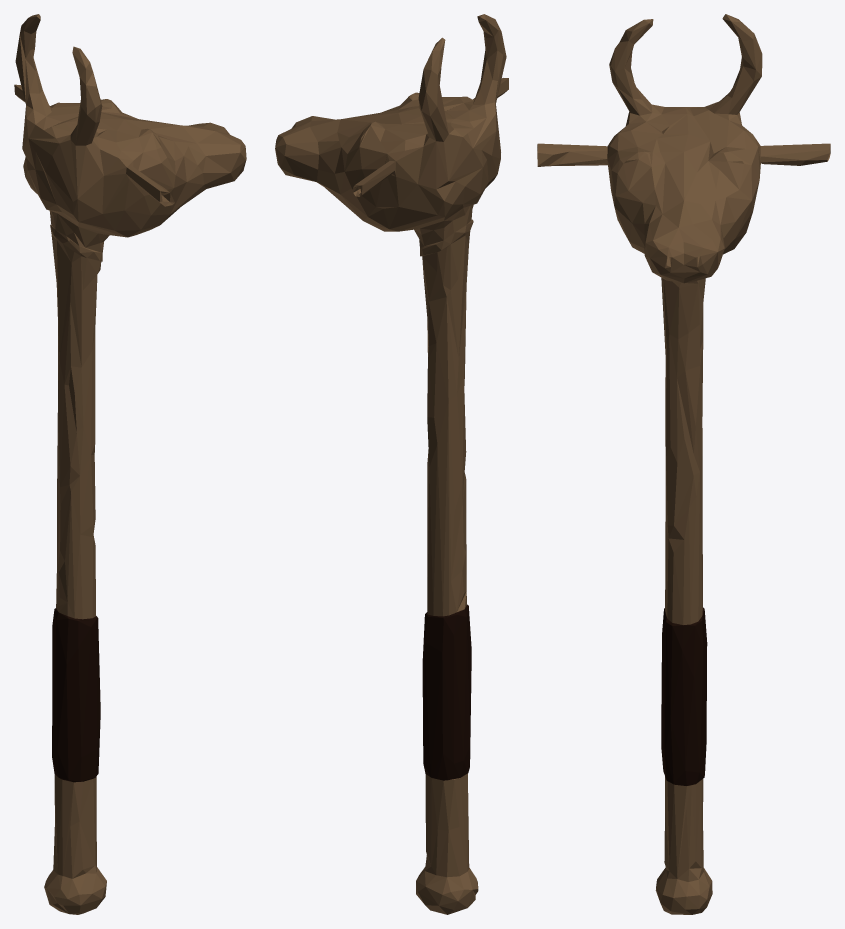
File: gavsar morning star.glb
3 views of the same model, side by side, from view 1: azimuth 30°, elevation 25°; view 2: azimuth 150°, elevation 25°; view 3: azimuth 270°, elevation 25° (orthographic).
Visible parts, largest first — view 1: Cube; view 2: Cube; view 3: Cube.
Part boxes in pixels (left/top/right/bottom): Cube: left=14, top=14, right=246, bottom=914; Cube: left=275, top=14, right=508, bottom=914; Cube: left=537, top=14, right=830, bottom=914.
Bounding box in the file's own units: 0.2513 × 1.06 × 0.3169.
